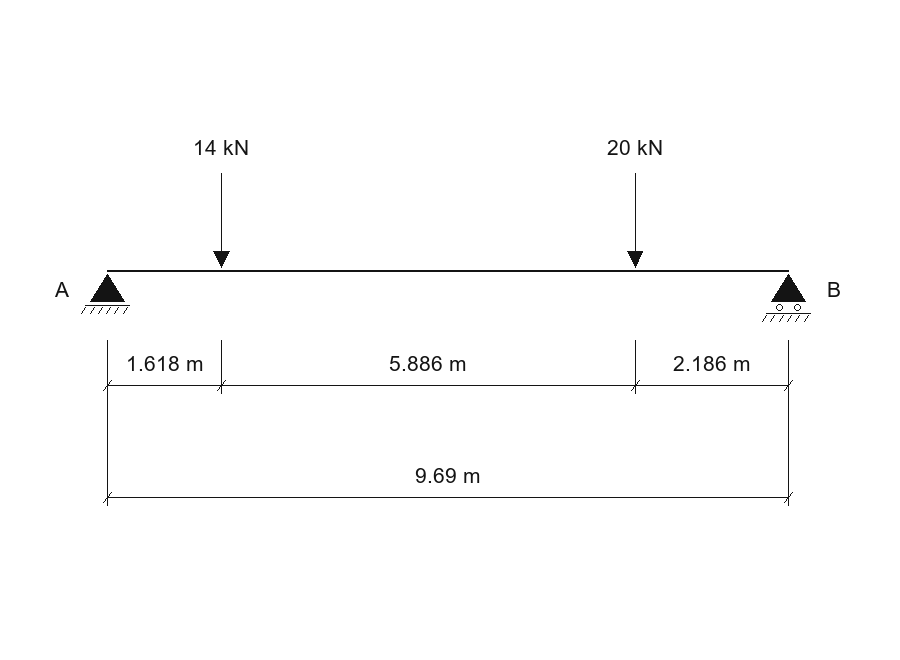pin_support: (81, 274, 130, 314)
point_load: (213, 173, 230, 268), (627, 173, 643, 268)
roller_support: (762, 274, 811, 322)
